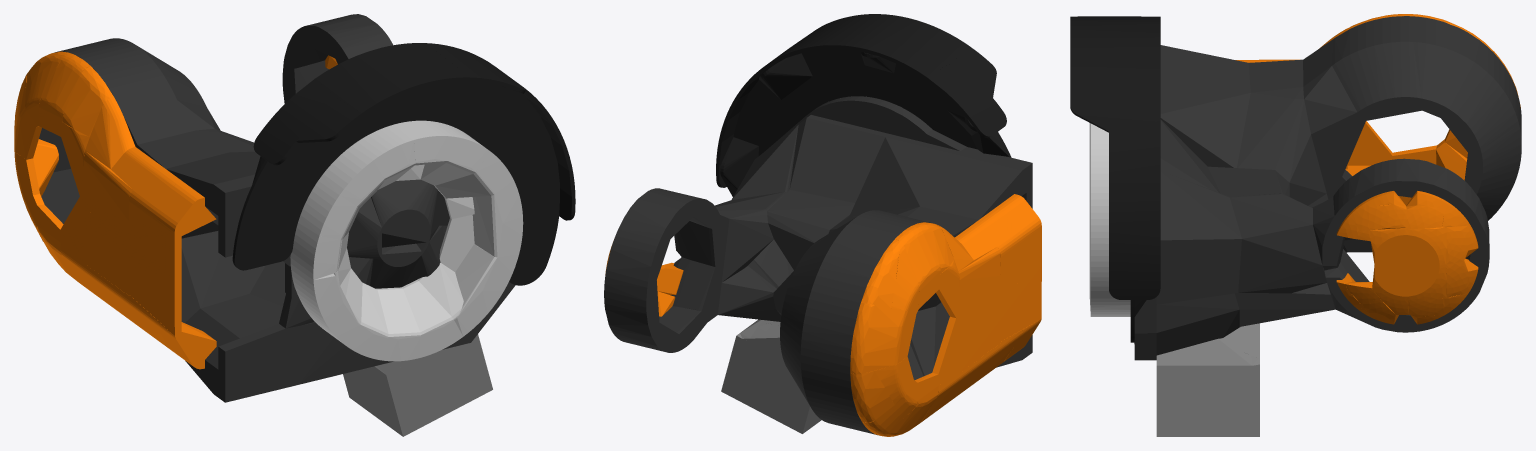
The model's file is LLEG_LINK0_mesh.dae.
The picture shows the model from 3 angles, left to right: view 1: azimuth 30°, elevation 25°; view 2: azimuth 150°, elevation 25°; view 3: azimuth 270°, elevation 25°; orthographic projection. The views are drawn at different scales.
Visible parts, largest first — view 1: LLEG_LINK0 (×7); view 2: LLEG_LINK0 (×8); view 3: LLEG_LINK0 (×8).
Part boxes in pixels (x1,y1,x2,y2): LLEG_LINK0 (×7): (14, 14, 575, 436); LLEG_LINK0 (×8): (604, 14, 1041, 436); LLEG_LINK0 (×8): (1070, 14, 1521, 436).
Size of the model in its own units: 0.1575 by 0.1609 by 0.175.
